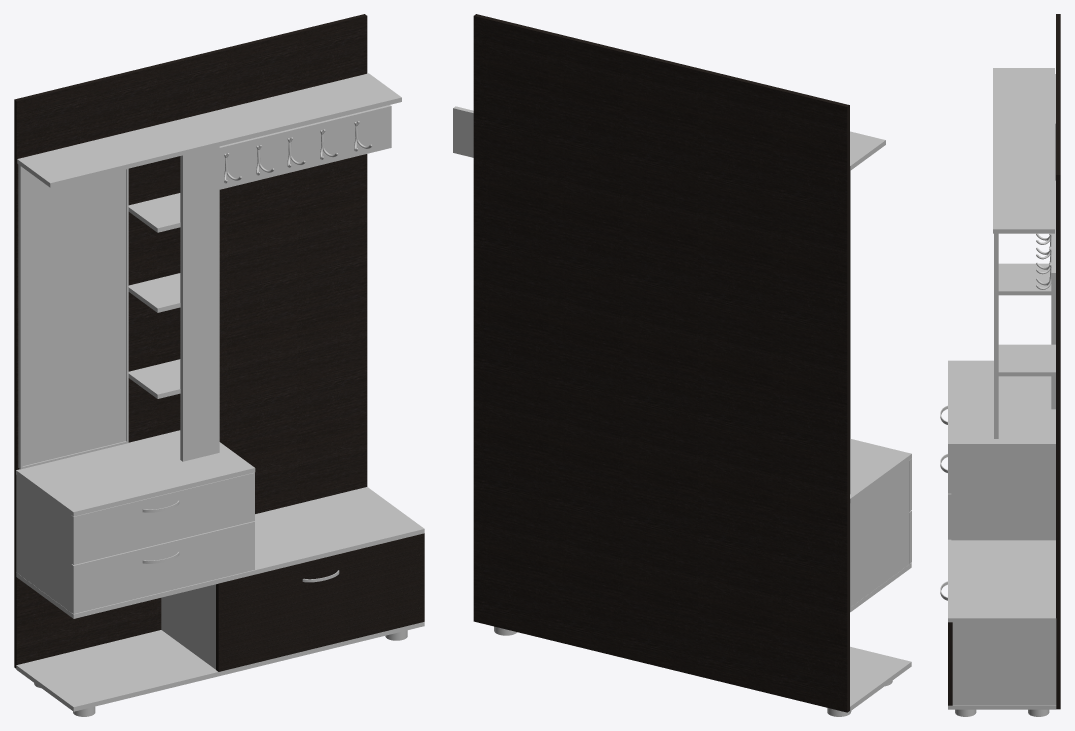
File: Prihozha.fbx
3 views of the same model, side by side, from view 1: azimuth 30°, elevation 25°; view 2: azimuth 150°, elevation 25°; view 3: azimuth 270°, elevation 25° (orthographic). The views are drawn at different scales.
Visible parts, largest first — view 1: Объект_Куб_18, Объект_Куб_2, Объект_Куб_16, Симметрия_5; view 2: Объект_Куб_18, Объект_Куб_2; view 3: Объект_Куб_2, Объект_Куб_18, Симметрия_5, Объект_Куб_16, Объект_Цилиндр_4.
Part boxes in pixels (box(x1,y1,x2,y2)): Объект_Куб_18: box(14, 14, 424, 671); Объект_Куб_2: box(16, 73, 424, 711); Объект_Куб_16: box(18, 164, 128, 469); Симметрия_5: box(224, 121, 372, 183); Объект_Куб_18: box(473, 14, 849, 712); Объект_Куб_2: box(453, 106, 911, 711); Объект_Куб_2: box(948, 68, 1056, 709); Объект_Куб_18: box(948, 14, 1060, 709); Симметрия_5: box(1036, 233, 1051, 289); Объект_Куб_16: box(1051, 74, 1055, 409); Объект_Цилиндр_4: box(955, 709, 1049, 716).
Size of the model in its own units: 262 by 390 by 78.
Materials: 4 (1 with a texture image).
